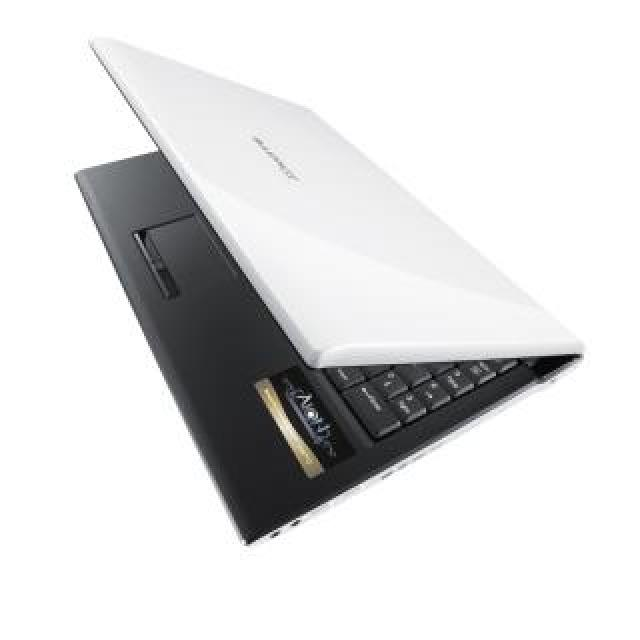laptop_computer: (65, 3, 580, 570)
